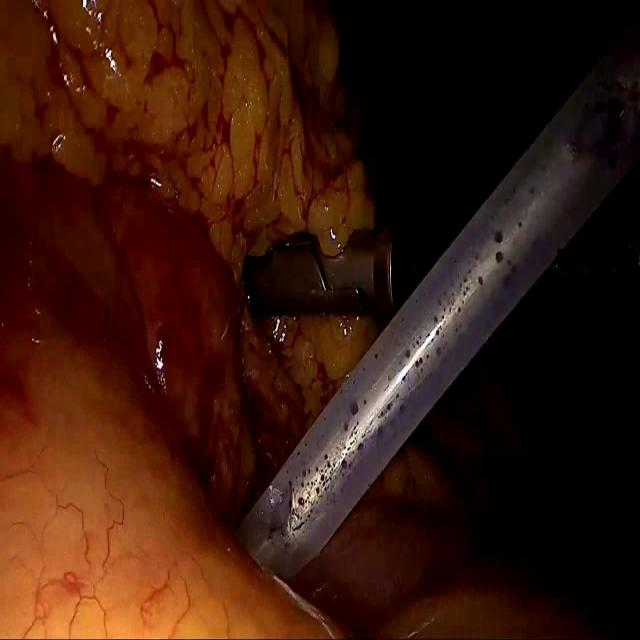surgical-tool: (236, 12, 640, 580)
